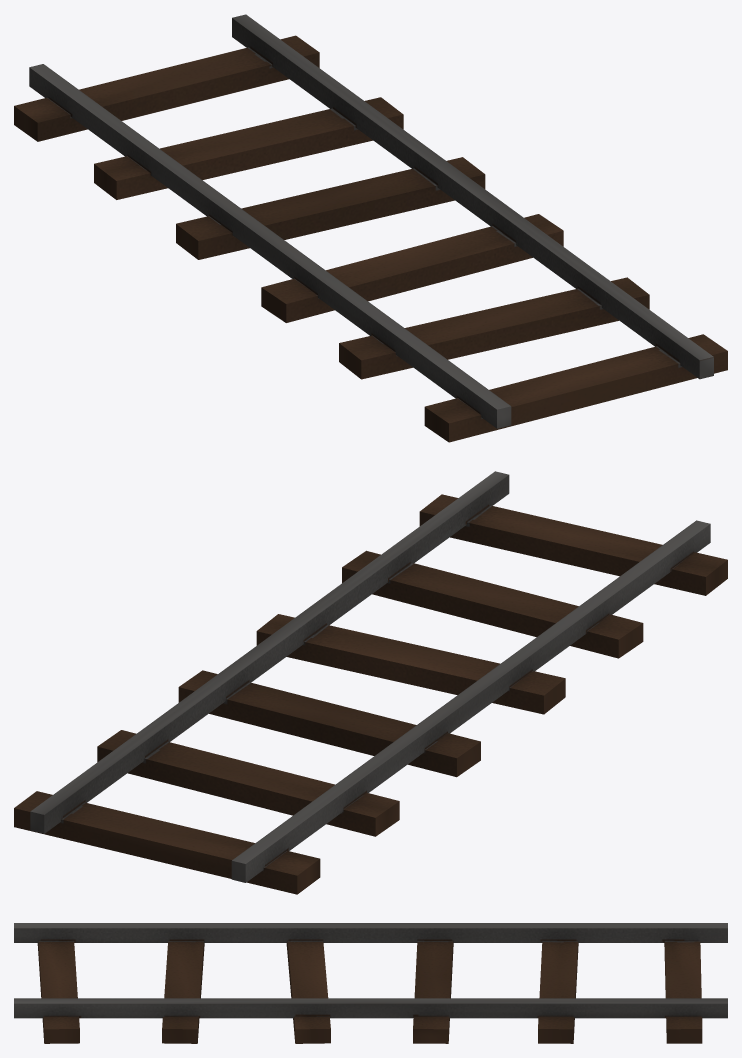
Rendered from cenario_trilhos.glb.
The picture shows the model from 3 angles, top to bottom: view 1: azimuth 30°, elevation 25°; view 2: azimuth 150°, elevation 25°; view 3: azimuth 270°, elevation 25°; orthographic projection. The views are drawn at different scales.
Parts seen in each view (by area): view 1: cenario_trilhos; view 2: cenario_trilhos; view 3: cenario_trilhos.
Boxes of the visible parts, left/top/right/bottom form: cenario_trilhos: left=14, top=14, right=727, bottom=442; cenario_trilhos: left=14, top=471, right=727, bottom=894; cenario_trilhos: left=14, top=923, right=727, bottom=1043.
Size of the model in its own units: 1.41 by 0.17 by 4.
1 material, 1 textured.
